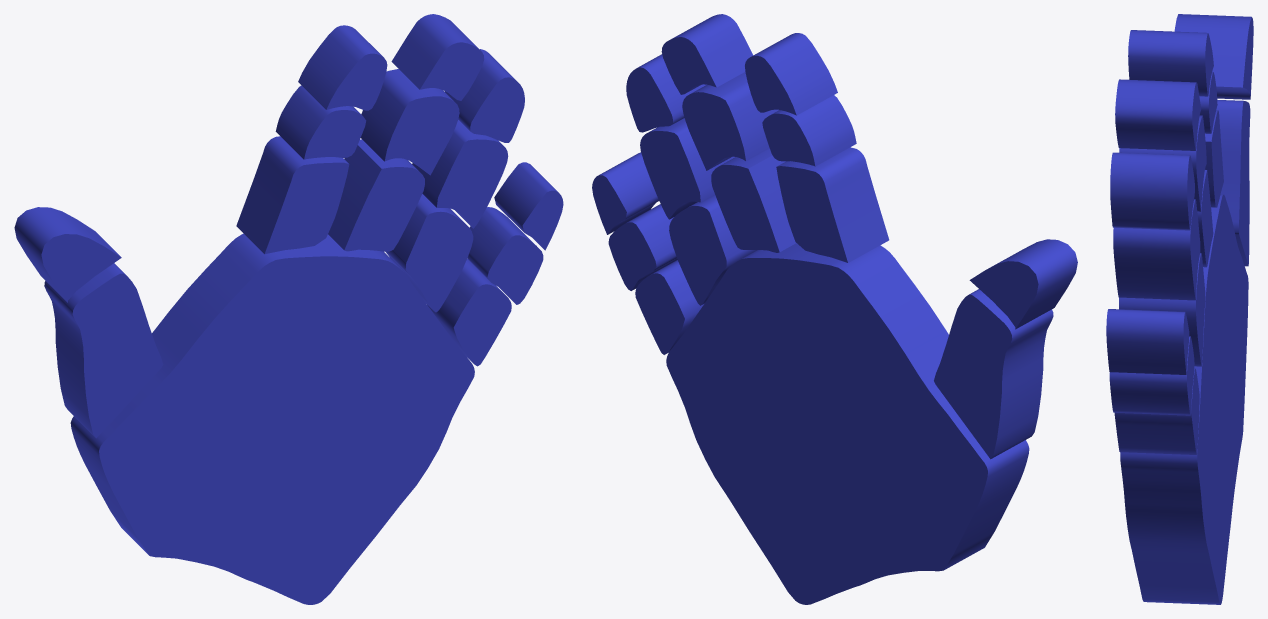
3 views of the same model, side by side, from view 1: azimuth 30°, elevation 25°; view 2: azimuth 150°, elevation 25°; view 3: azimuth 270°, elevation 25° (orthographic). The views are drawn at different scales.
Visible parts, largest first — view 1: root (×15); view 2: root (×15); view 3: root (×15).
Boxes of the visible parts, left/top/right/bottom form: root (×15): left=14, top=14, right=563, bottom=604; root (×15): left=592, top=14, right=1077, bottom=604; root (×15): left=1106, top=14, right=1253, bottom=604.
Bounding box in the file's own units: 0.2587 × 0.2716 × 0.0609.
